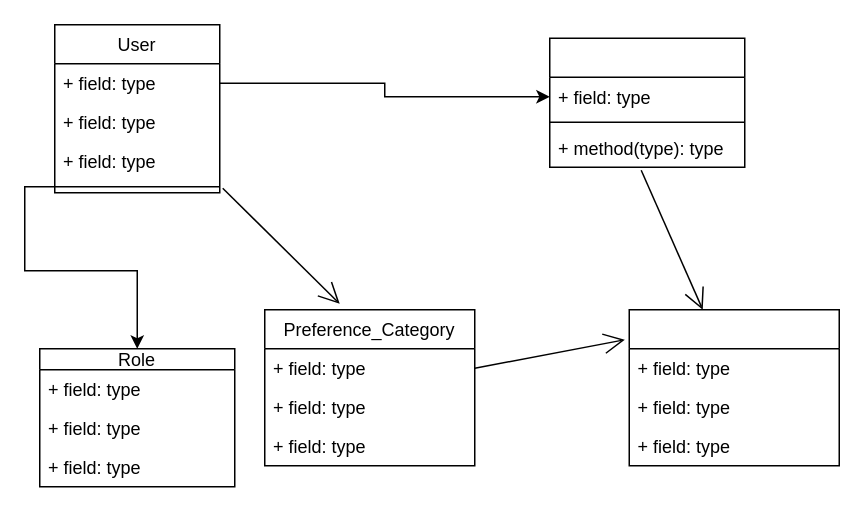
The diagram is 864 pixels wide and 512 high, and some of its shapes have lost their labels. Here are the shapes that lost their labels. From the top down, the box of each, then its label:
(548, 37, 745, 167): Post_Sheep
(628, 308, 839, 466): Category
